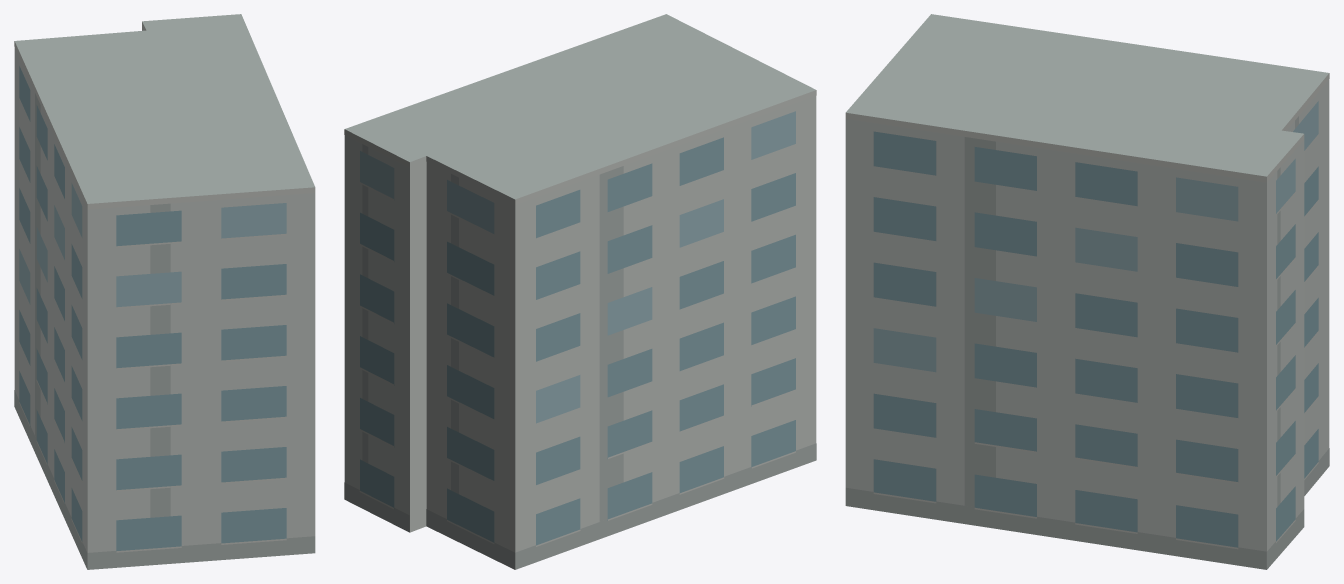
Rendered from survey-upis-32885147.glb.
3 views of the same model, side by side, from view 1: azimuth 30°, elevation 25°; view 2: azimuth 150°, elevation 25°; view 3: azimuth 270°, elevation 25° (orthographic). The views are drawn at different scales.
Parts seen in each view (by area): view 1: survey-upis-32885147.tmp; view 2: survey-upis-32885147.tmp; view 3: survey-upis-32885147.tmp.
Part boxes in pixels (x1=…): survey-upis-32885147.tmp: x1=14, y1=14, x2=315, y2=569; survey-upis-32885147.tmp: x1=344, y1=14, x2=816, y2=569; survey-upis-32885147.tmp: x1=845, y1=14, x2=1329, y2=569.
Bounding box in the file's own units: 13.84 × 15.6 × 17.4.
